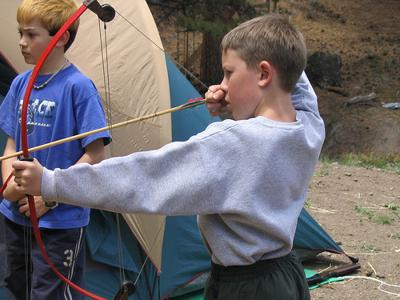person: (11, 15, 323, 300)
